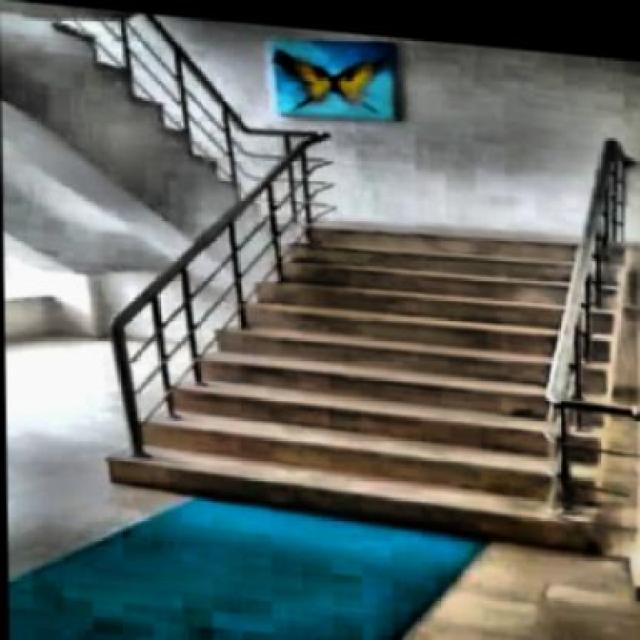stair: (117, 197, 618, 538)
